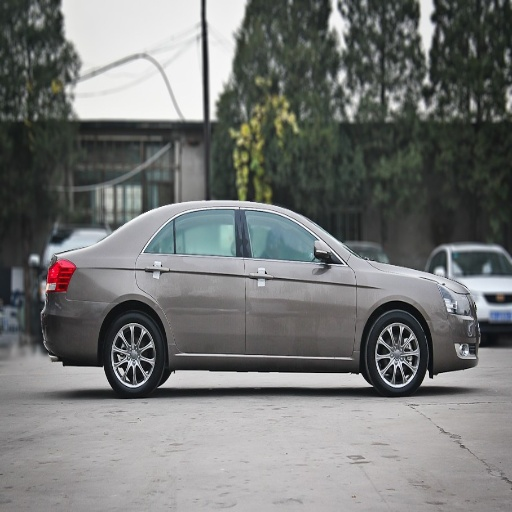back_right_door: (139, 207, 245, 353)
front_right_door: (244, 207, 352, 356)
